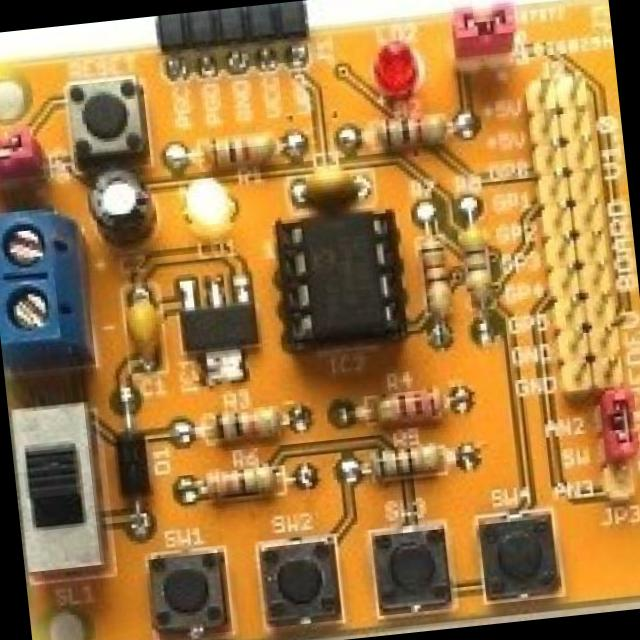IC: (282, 210, 402, 342), (175, 272, 262, 377)
LED: (181, 175, 237, 232), (369, 40, 420, 96)
capacitor: (84, 169, 150, 237), (288, 165, 377, 207), (124, 290, 160, 368)
connector: (522, 68, 627, 394), (0, 201, 90, 369), (156, 0, 312, 83), (453, 2, 517, 64), (600, 387, 640, 466), (0, 131, 42, 185)
diode: (106, 388, 160, 532)
resistor: (180, 126, 304, 176), (454, 211, 501, 340), (415, 219, 461, 344), (354, 437, 471, 485), (360, 111, 466, 160), (195, 400, 298, 449), (198, 460, 296, 504), (368, 382, 454, 426)
